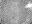person: (26, 3, 31, 9)
